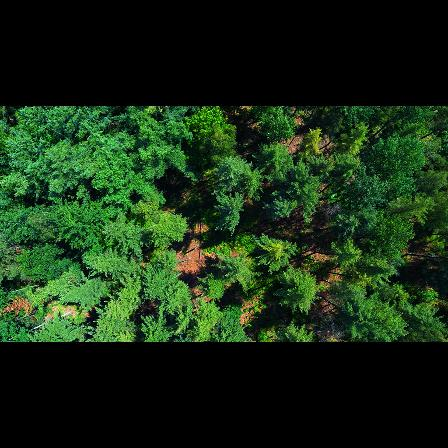Dead: (315, 201, 347, 223)
